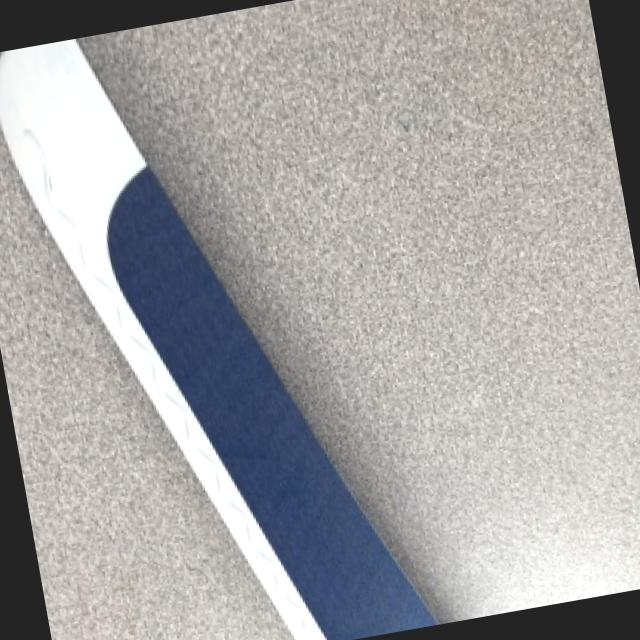healthy: (0, 40, 438, 640)
